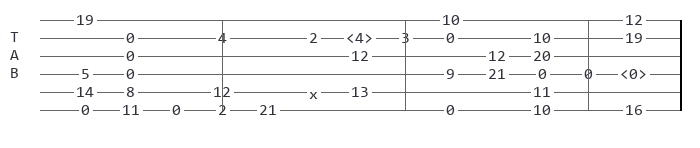0: (81, 103, 94, 117), (126, 67, 139, 81), (126, 49, 139, 63), (126, 31, 139, 45), (172, 103, 185, 117), (446, 103, 459, 117), (446, 31, 459, 45), (538, 67, 551, 81), (584, 67, 597, 81)
10: (442, 13, 464, 27), (533, 103, 555, 117), (533, 31, 555, 45)
11: (122, 103, 144, 117), (533, 85, 555, 99)
12: (213, 85, 235, 99), (351, 49, 373, 63), (488, 49, 510, 63), (625, 13, 647, 27)
13: (351, 85, 373, 99)
14: (76, 85, 98, 99)
16: (625, 103, 647, 117)
19: (76, 13, 98, 27), (625, 31, 647, 45)
2: (218, 103, 231, 117), (309, 31, 322, 45)
20: (533, 49, 555, 63)
21: (259, 103, 281, 117), (488, 67, 510, 81)
3: (401, 31, 414, 45)
4: (218, 31, 231, 45)
5: (81, 67, 94, 81)
8: (126, 85, 139, 99)
9: (446, 67, 459, 81)
harmonic: (346, 31, 377, 45), (620, 67, 651, 81)
x: (309, 87, 322, 98)
